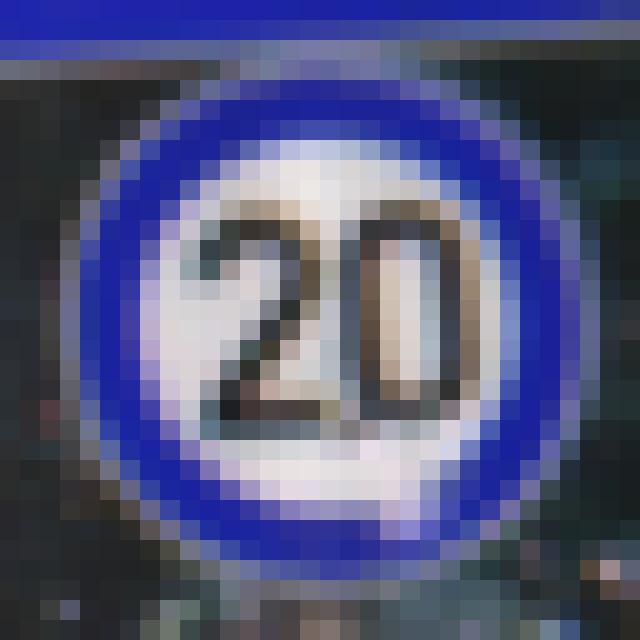SPEED LIMIT 20: (64, 73, 590, 564)
